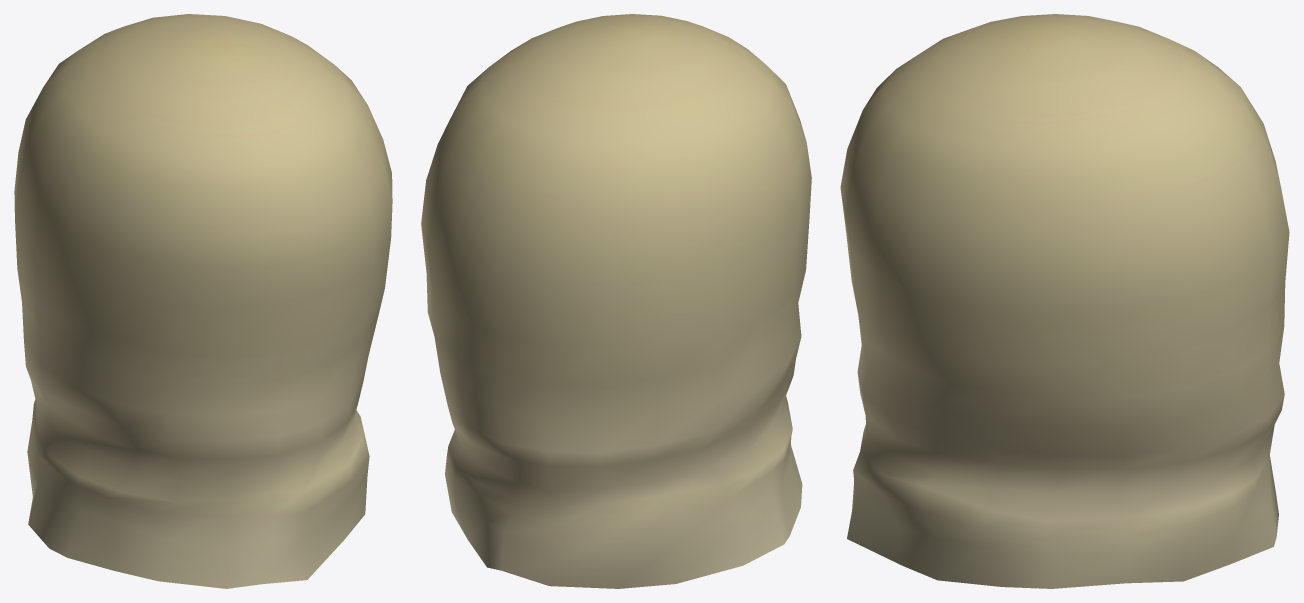
The model's file is bagop.fbx.
3 views of the same model, side by side, from view 1: azimuth 30°, elevation 25°; view 2: azimuth 150°, elevation 25°; view 3: azimuth 270°, elevation 25° (orthographic). The views are drawn at different scales.
Visible parts, largest first — view 1: bagOP; view 2: bagOP; view 3: bagOP.
Boxes of the visible parts, x1,y1,x2,y2 form: bagOP: (14, 14, 392, 588); bagOP: (421, 14, 811, 588); bagOP: (840, 14, 1289, 588).
Bounding box in the file's own units: 334 × 475 × 379.
